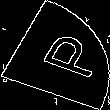P_NW: (14, 28, 96, 82)
